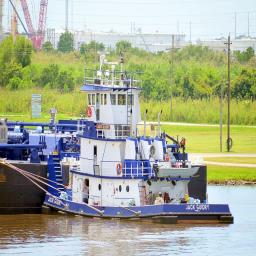tugboat: (42, 50, 237, 229)
